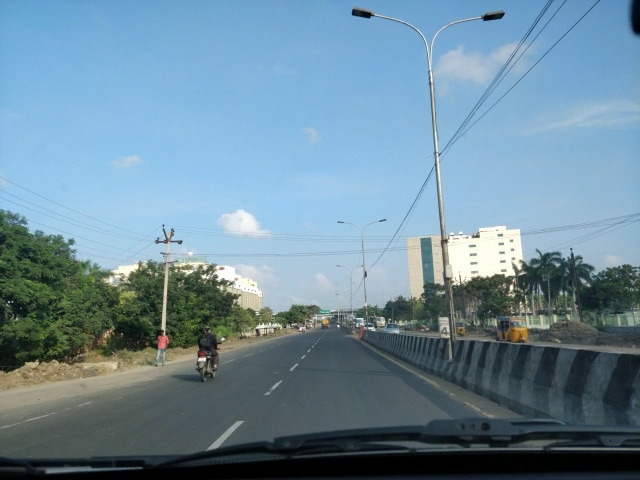auto: (494, 313, 530, 342), (456, 317, 466, 338)
car: (385, 321, 400, 333)
motorbike: (196, 327, 219, 381)
person: (156, 329, 169, 367)
truck: (319, 316, 333, 330)
